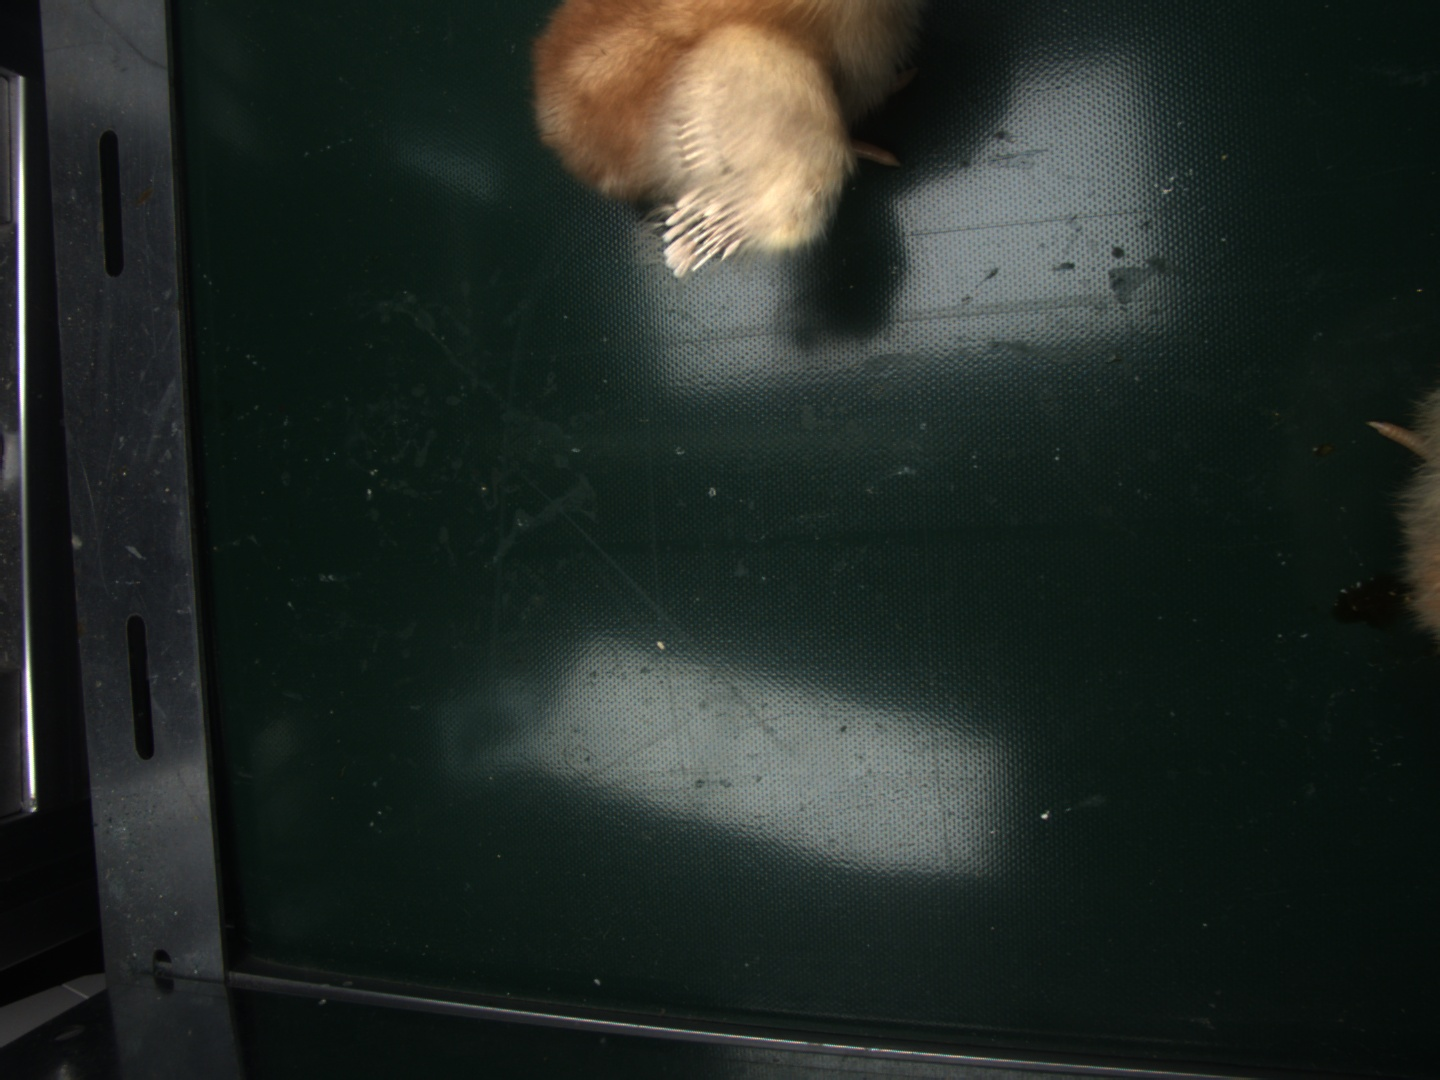female: (658, 186, 746, 280)
